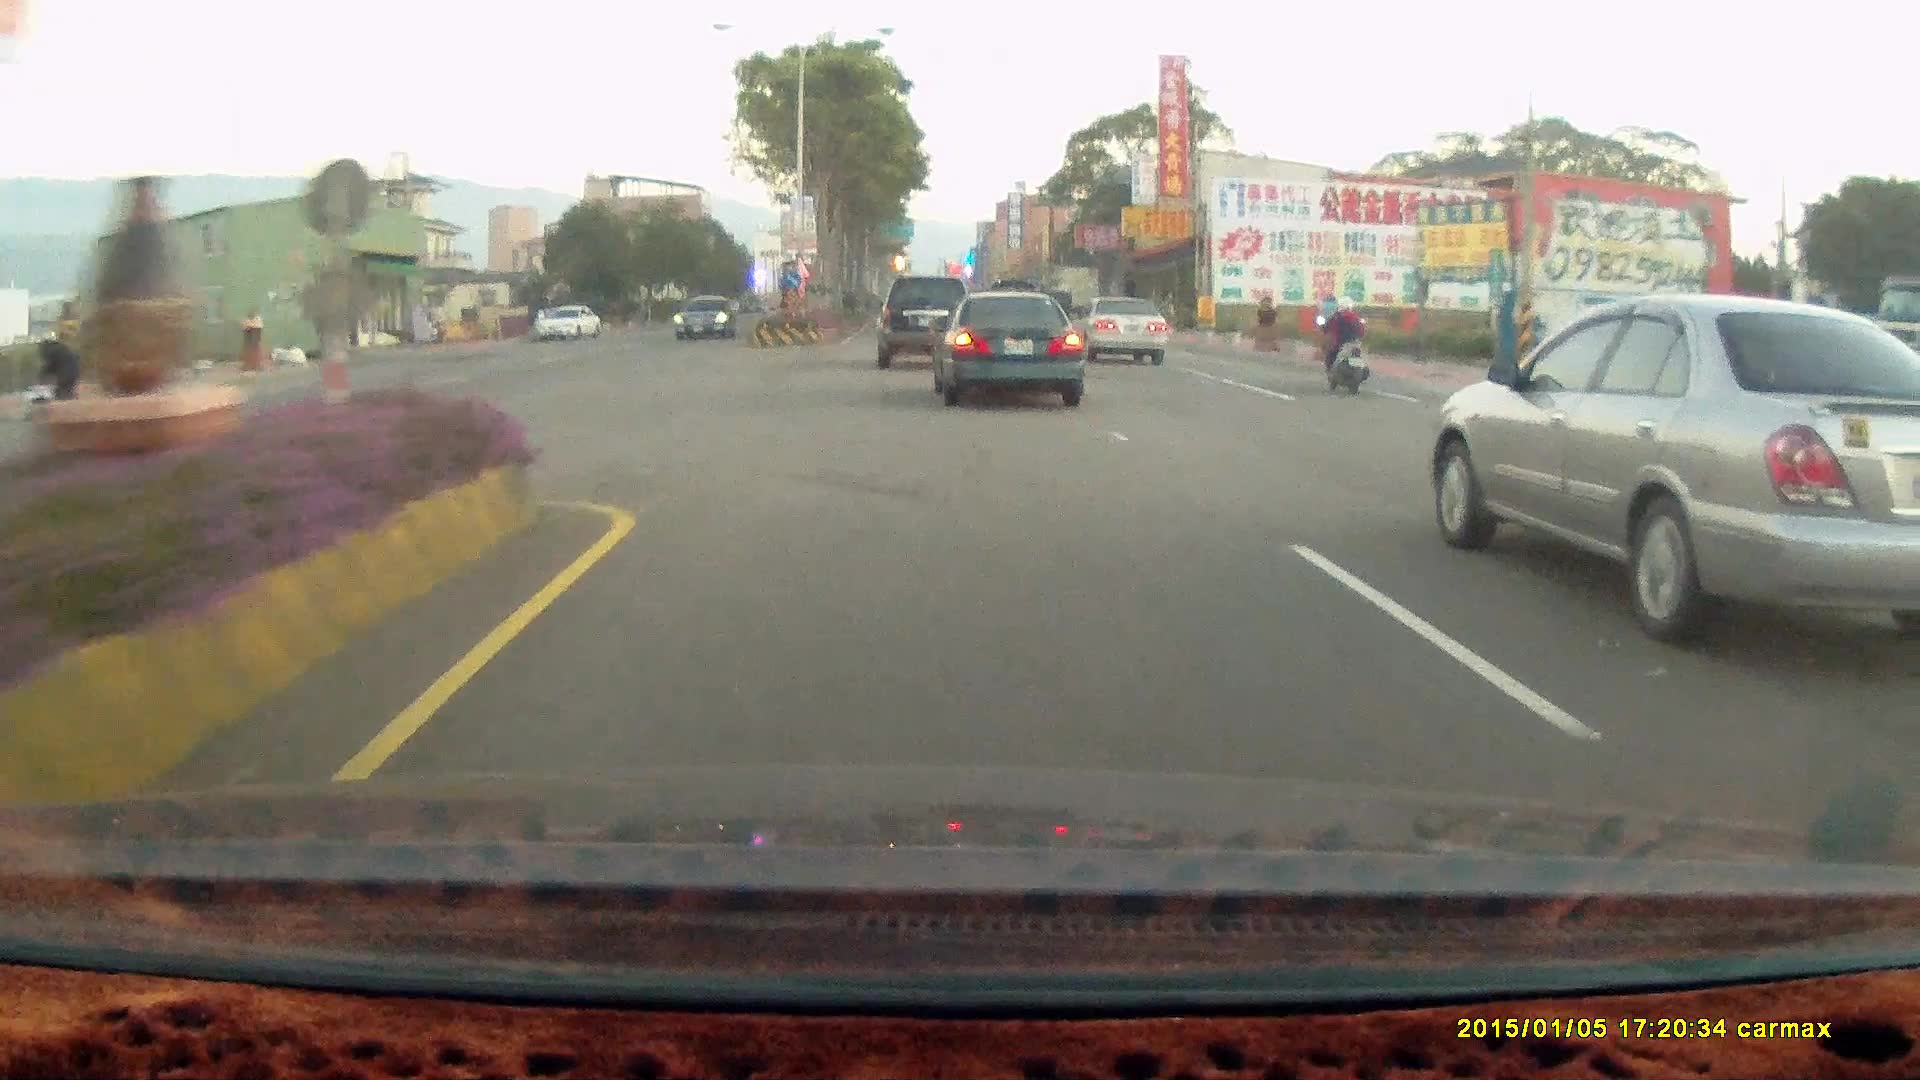pedestrian: (31, 335, 85, 421)
rider: (1306, 284, 1380, 405), (1313, 293, 1369, 392)
vehicle: (1425, 298, 1920, 658), (924, 291, 1081, 407), (937, 297, 1088, 411), (880, 274, 977, 374), (875, 275, 969, 369), (1073, 294, 1167, 363), (1075, 301, 1168, 367), (673, 296, 740, 343), (674, 294, 738, 336), (535, 306, 604, 346), (532, 304, 601, 342)
